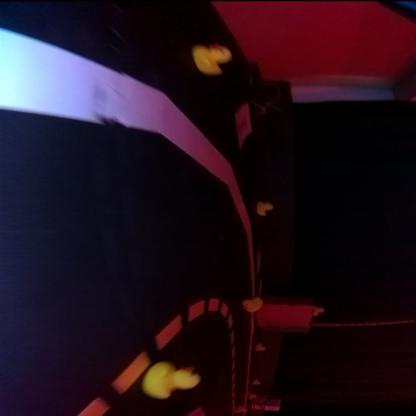Duckie: (147, 363, 201, 399), (196, 44, 232, 74), (244, 298, 262, 312), (258, 202, 274, 216), (314, 306, 324, 315)
QR code: (256, 252, 263, 272)
